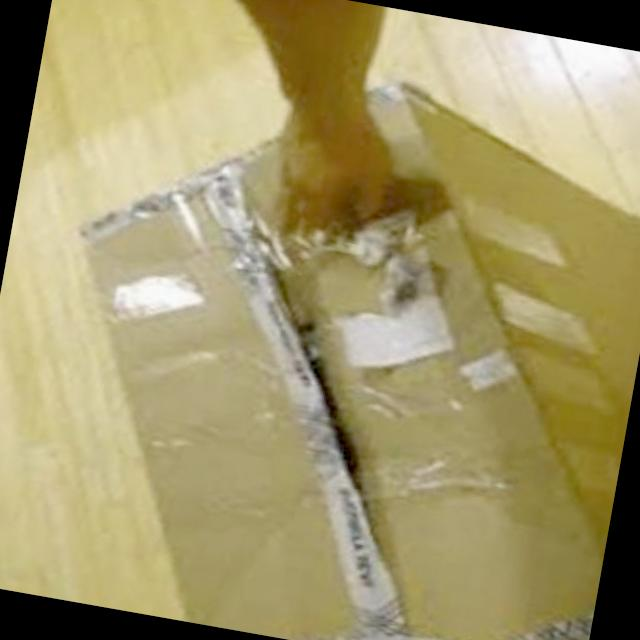box: (18, 25, 640, 640)
